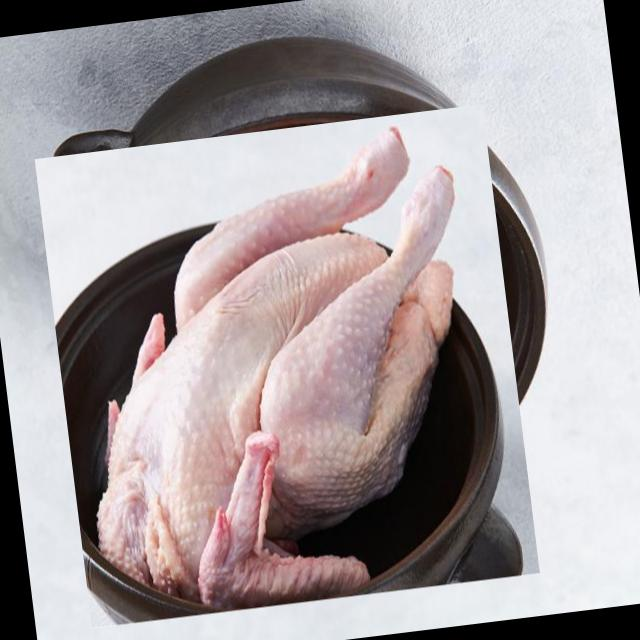chicken: (34, 104, 540, 628)
